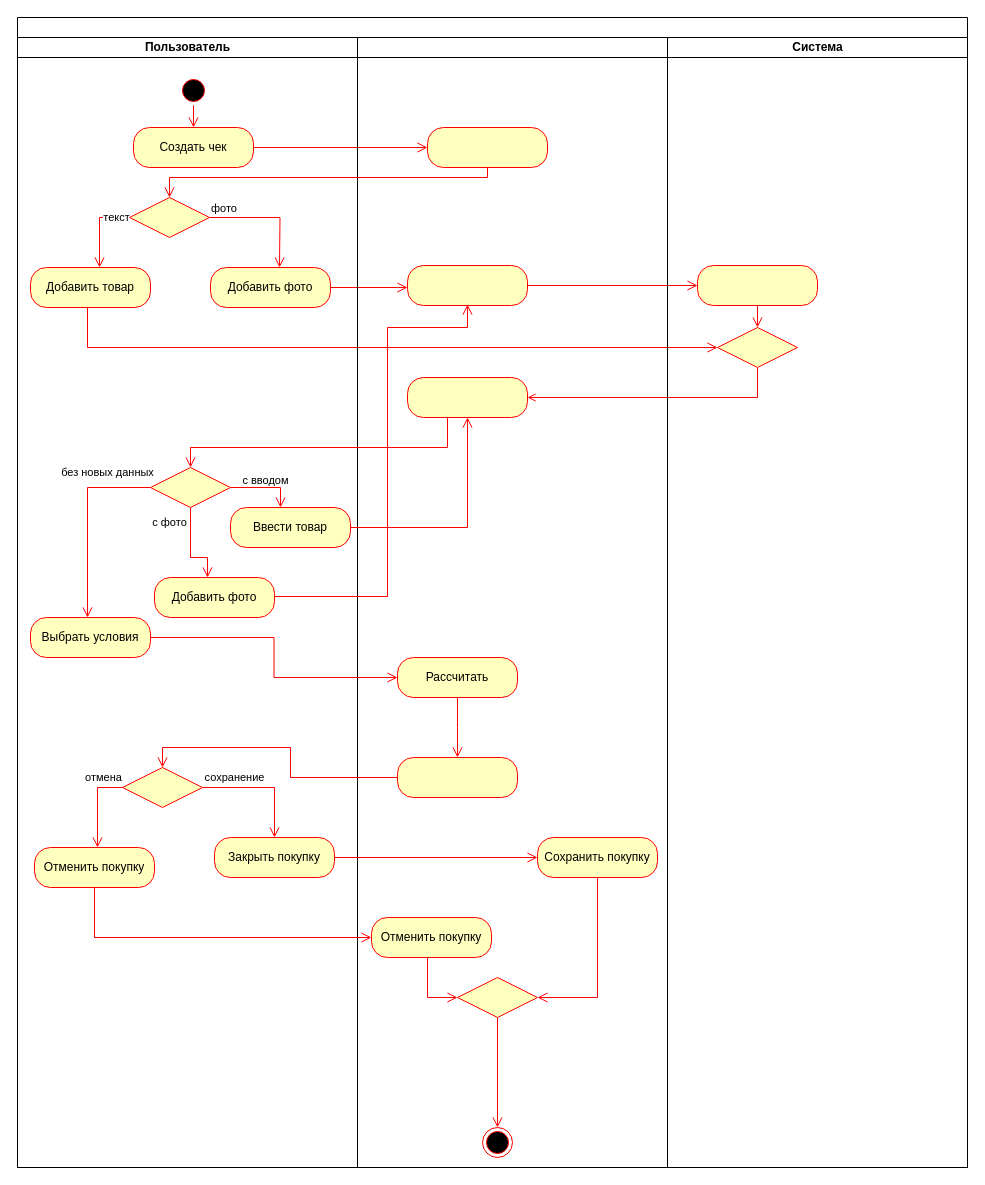
This 985x1185 diagram has some shape labels left out. Each missing label, with the box of its shape:
Вывод данных: (396, 756, 518, 798)
Добавить новую запись: (426, 126, 548, 168)
Записать данные: (406, 376, 528, 418)
Отправить фото на обработку: (406, 264, 528, 306)
Приложение: (356, 36, 668, 1168)
Считать данные с фото: (696, 264, 818, 306)
